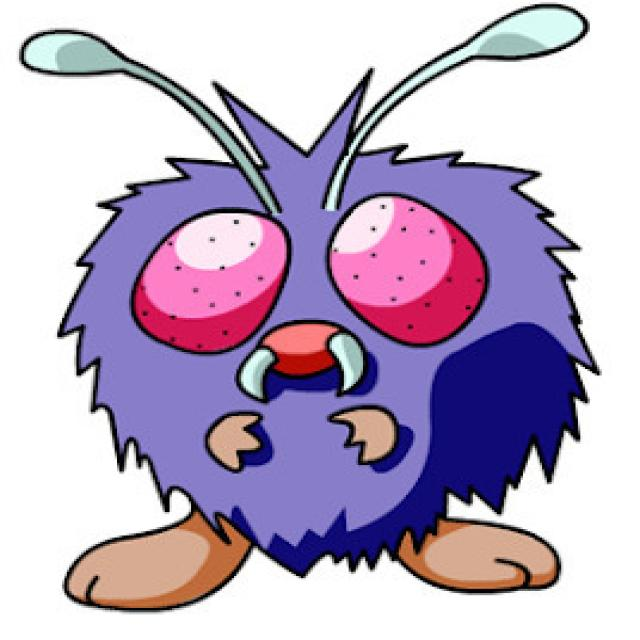Venonat: (84, 60, 576, 567)
